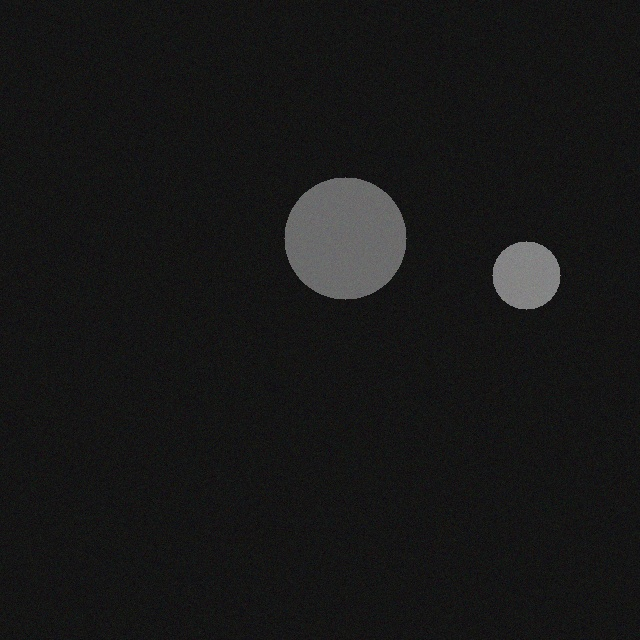circle: (273, 163, 395, 285), (481, 227, 549, 295)
